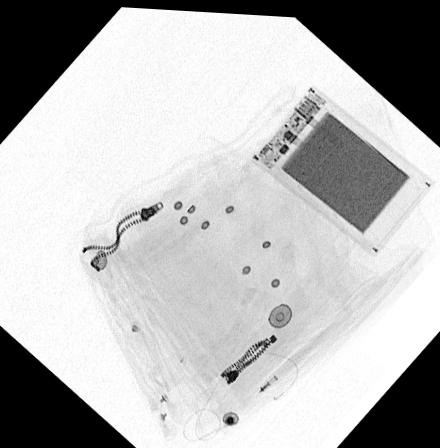Powerbank: (248, 79, 434, 252)
